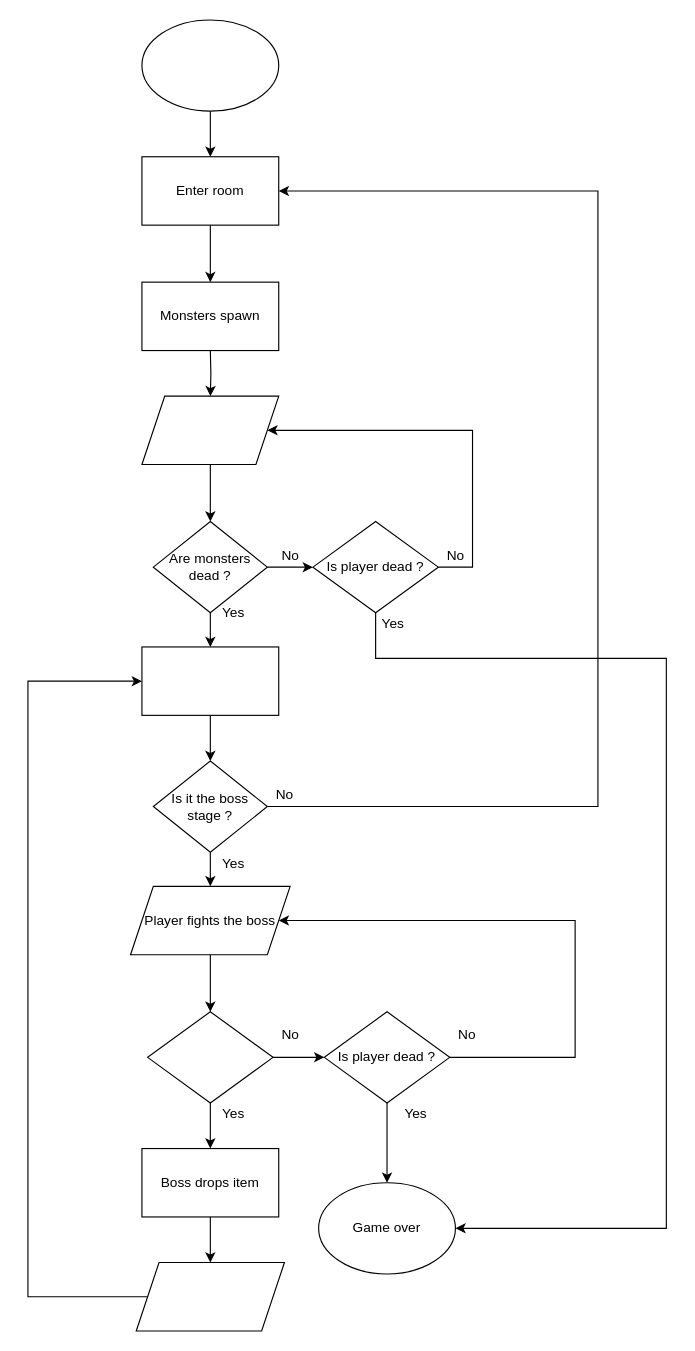
This 695x1351 diagram has some shape labels left out. Here are the shapes that lost their labels. From the top down, the box of each, then its label:
(141, 19, 279, 111): Enter the game
(141, 395, 279, 465): Player fights monsters
(141, 646, 279, 715): Go to next stage
(146, 1011, 273, 1103): Is the boss dead ?
(135, 1261, 284, 1331): Player picks item up
